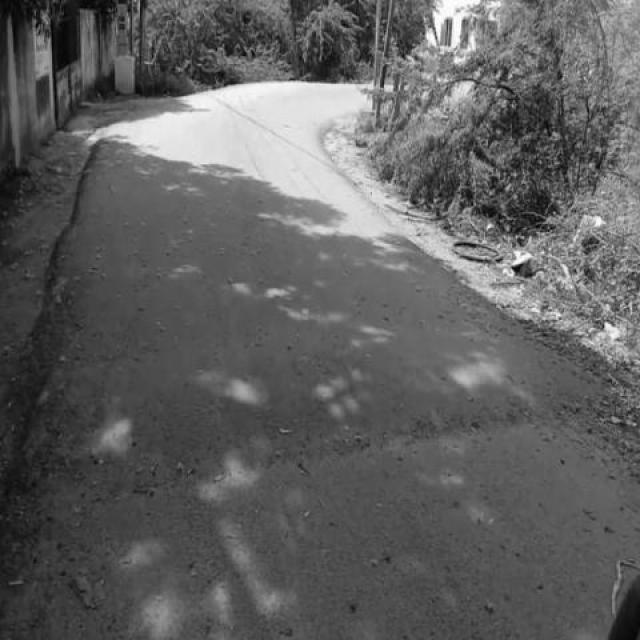Manhole: (444, 237, 508, 268)
Unmarked Bump: (22, 316, 610, 488)
